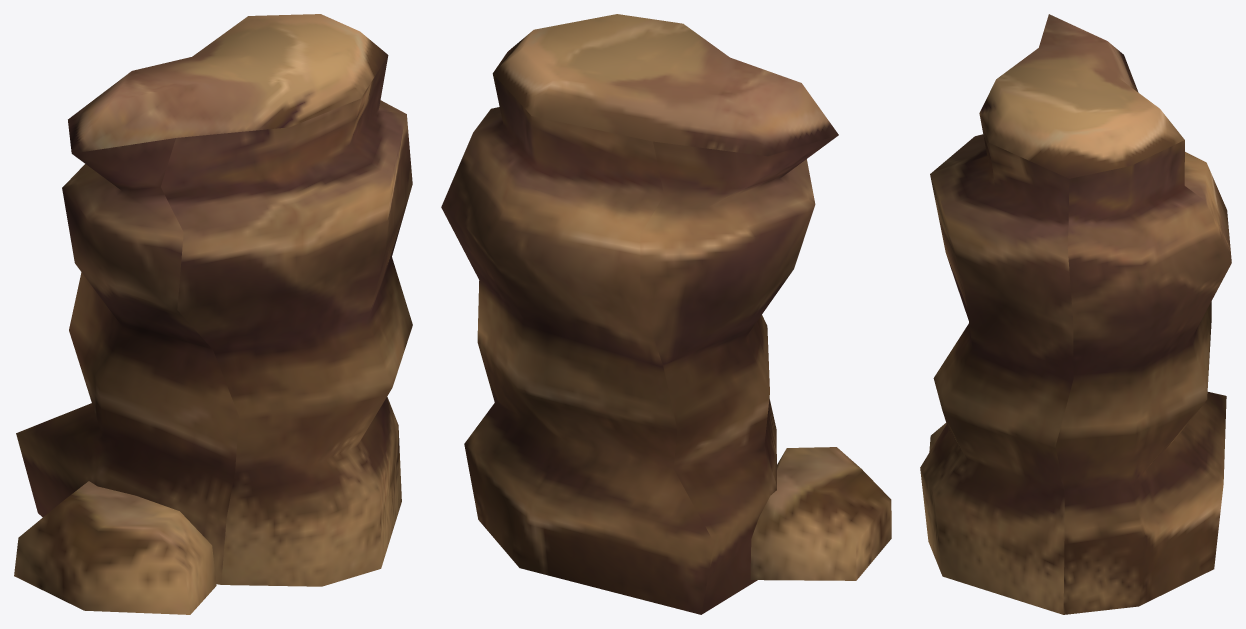
File: shitou13.FBX
The picture shows the model from 3 angles, left to right: view 1: azimuth 30°, elevation 25°; view 2: azimuth 150°, elevation 25°; view 3: azimuth 270°, elevation 25°; orthographic projection. The views are drawn at different scales.
Visible parts, largest first — view 1: shitou13; view 2: shitou13; view 3: shitou13.
Boxes of the visible parts, x1,y1,x2,y2 form: shitou13: [14, 14, 412, 614]; shitou13: [441, 14, 891, 614]; shitou13: [920, 14, 1231, 614].
Bounding box in the file's own units: 128 × 151 × 91.63.
